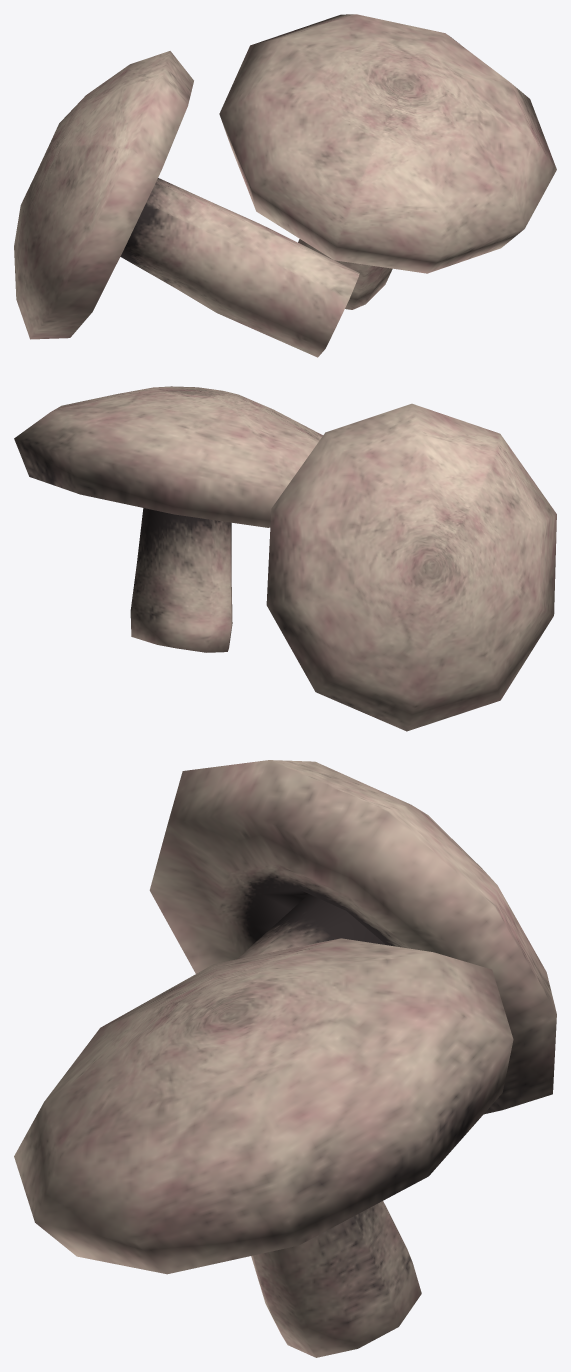
File: mashrooms.fbx
The picture shows the model from 3 angles, top to bottom: view 1: azimuth 30°, elevation 25°; view 2: azimuth 150°, elevation 25°; view 3: azimuth 270°, elevation 25°; orthographic projection. The views are drawn at different scales.
Parts seen in each view (by area): view 1: mashroom, mashroom1; view 2: mashroom1, mashroom; view 3: mashroom, mashroom1.
Boxes of the visible parts, <box> form: mashroom: <box>219,14,556,309</box>; mashroom1: <box>14,51,359,357</box>; mashroom1: <box>266,403,556,731</box>; mashroom: <box>14,386,322,652</box>; mashroom: <box>14,938,513,1357</box>; mashroom1: <box>149,760,556,1114</box>.
Bounding box in the file's own units: 9.19 × 4.94 × 5.66.
Materials: 1 (1 with a texture image).
